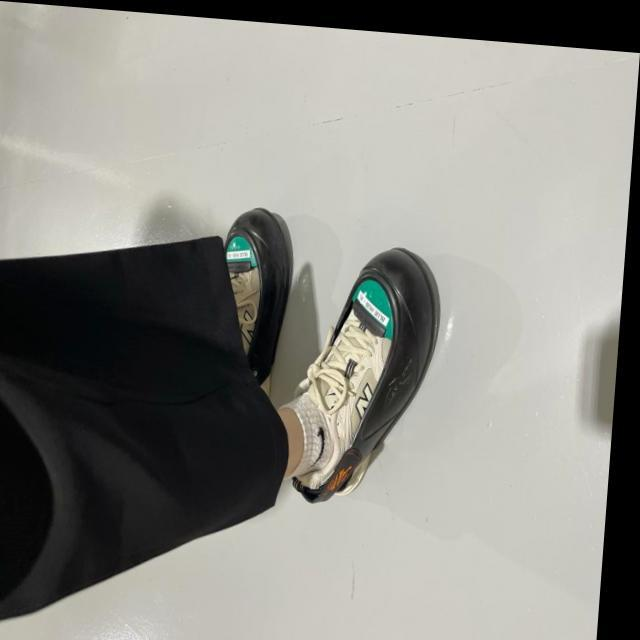shoes: (283, 244, 458, 500), (219, 200, 297, 388)
